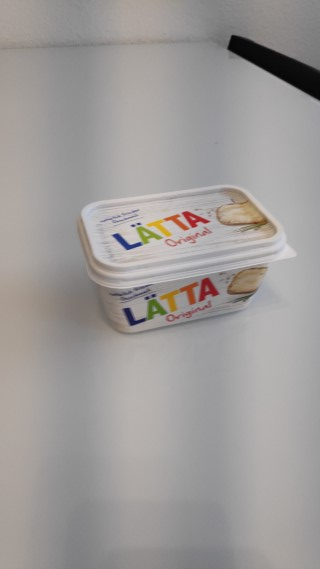laetta: (76, 183, 296, 335)
